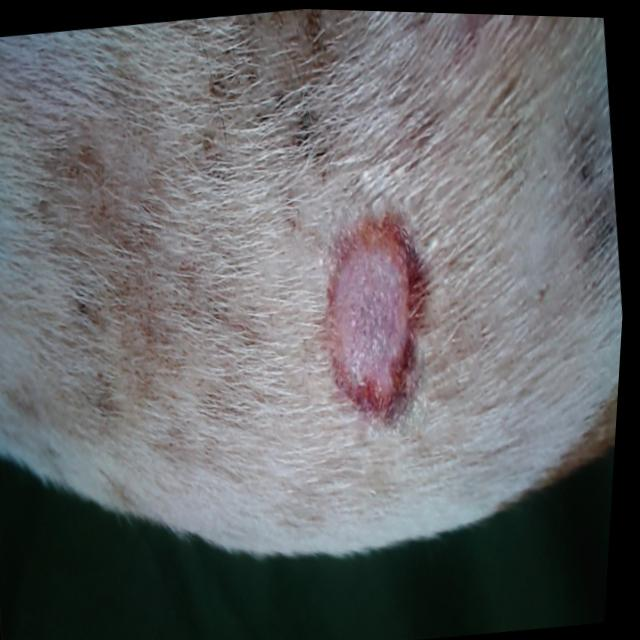ringworm: (286, 152, 462, 459)
